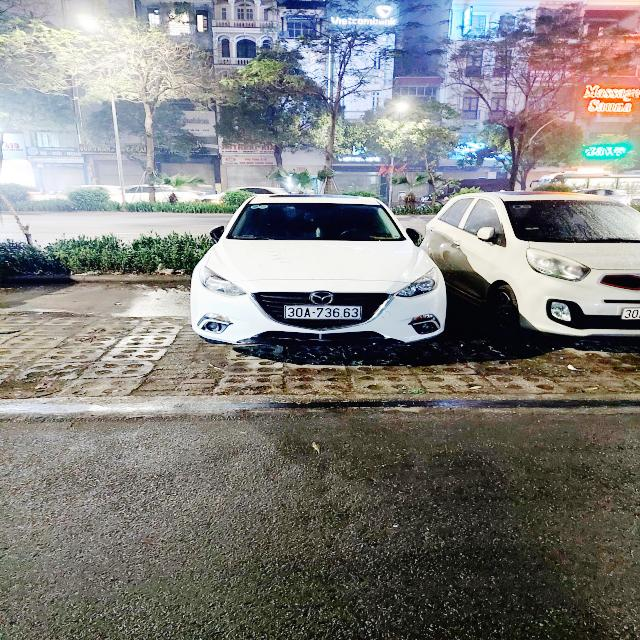license_plate: (282, 305, 365, 323)
